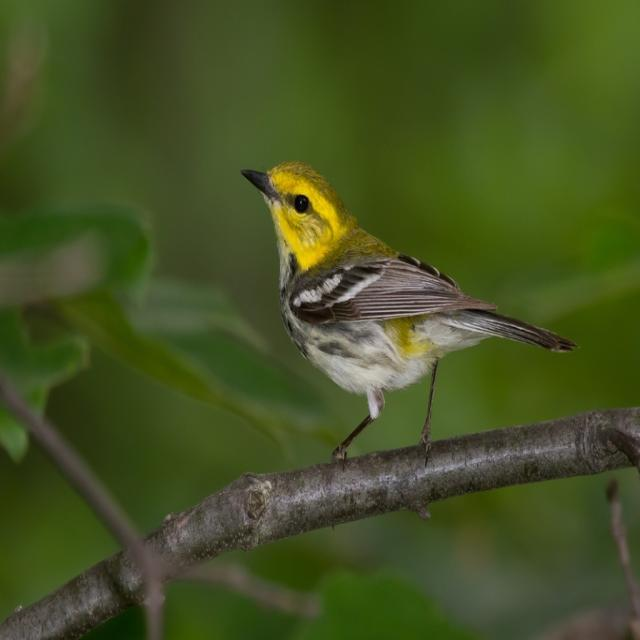bird: (231, 153, 574, 459)
